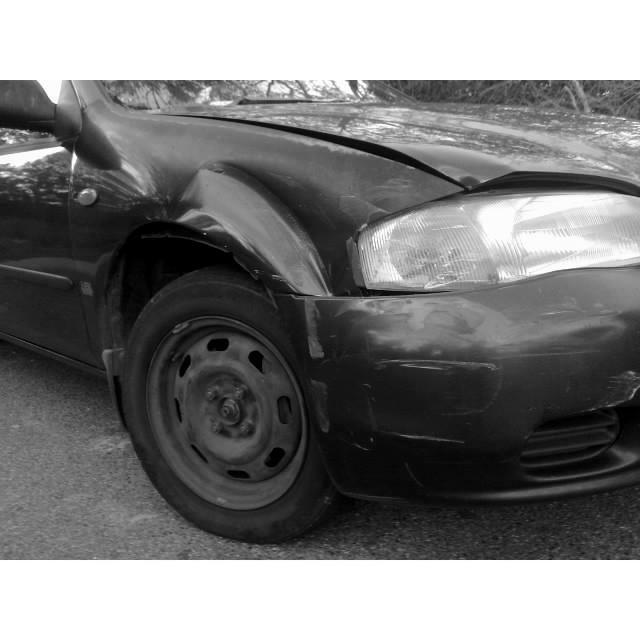bonnet-dent: (213, 80, 640, 205)
fender-dent: (57, 94, 416, 299)
front-bumper-dent: (306, 297, 639, 512)
